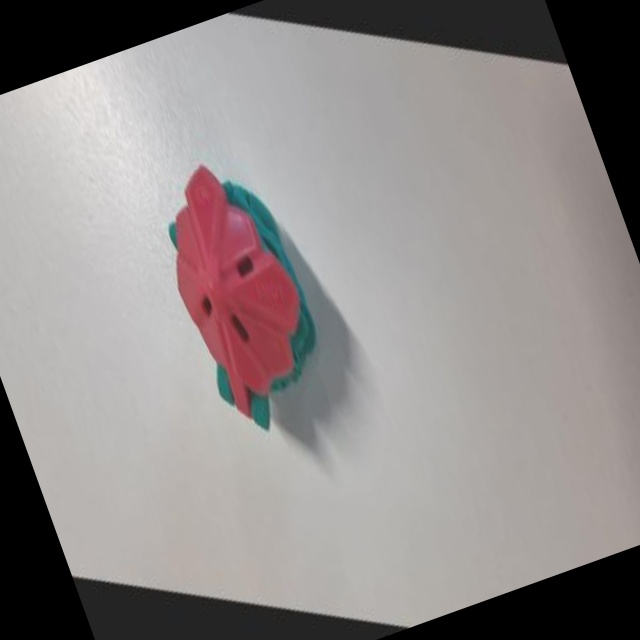House: (91, 65, 392, 498)
